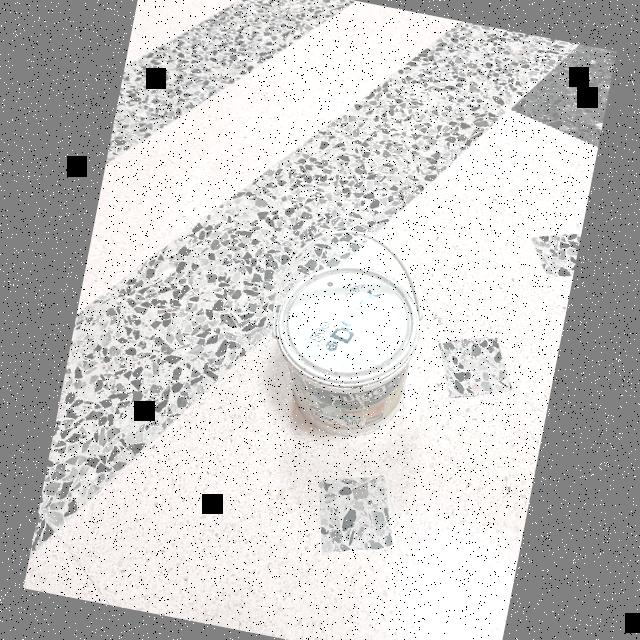paint_bucket: (260, 252, 433, 452)
